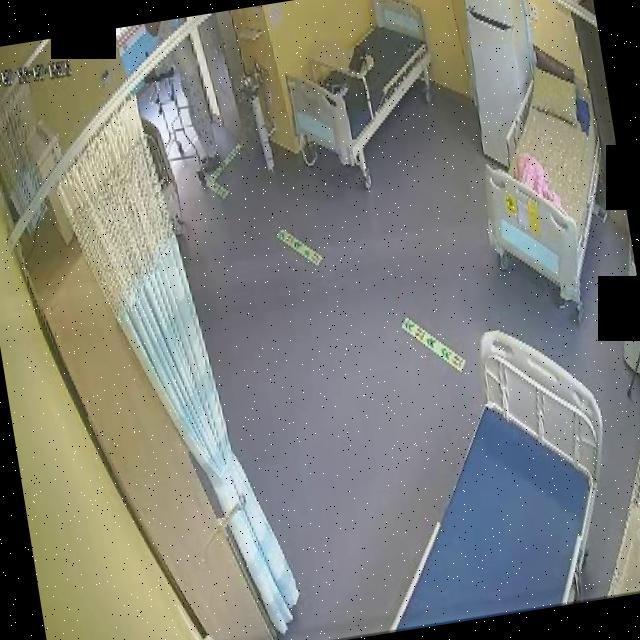bed: (351, 313, 633, 632), (464, 55, 624, 298), (274, 0, 444, 172)
patient: (144, 15, 224, 183)
